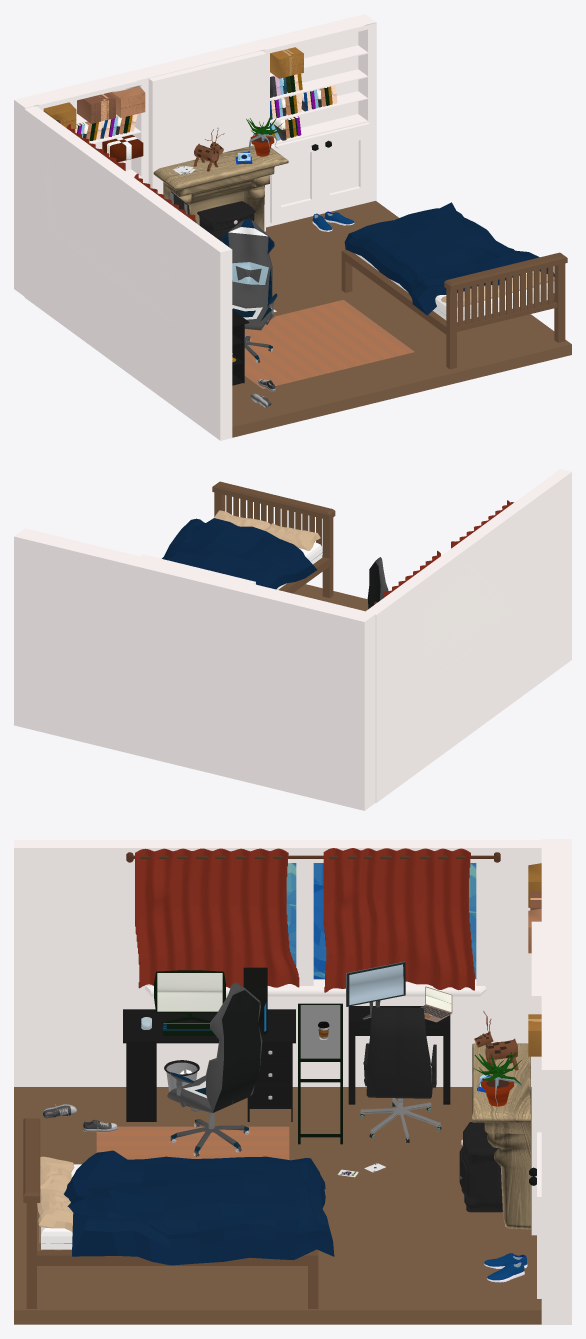
File: room-transformed.glb
3 views of the same model, one above another, from view 1: azimuth 30°, elevation 25°; view 2: azimuth 150°, elevation 25°; view 3: azimuth 270°, elevation 25° (orthographic). The views are drawn at different scales.
Parts seen in each view (by area): view 1: desk_bed; view 2: desk_bed; view 3: desk_bed.
Part boxes in pixels (bbox=[...]): desk_bed: bbox=[14, 14, 571, 440]; desk_bed: bbox=[14, 469, 571, 810]; desk_bed: bbox=[14, 839, 571, 1324].
Bounding box in the file's own units: 10.56 × 5.33 × 10.56.
19 materials, 19 textured.
